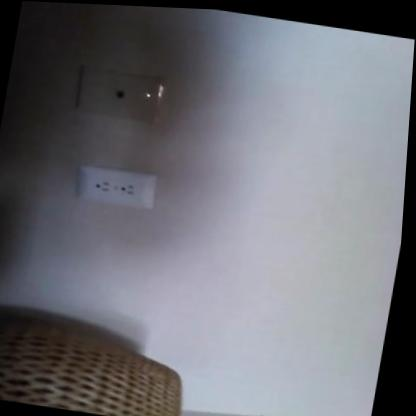OUTLET: (74, 162, 158, 210)
